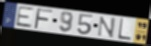5: (76, 14, 94, 36)
9: (58, 11, 74, 34)
E: (14, 5, 34, 29)
F: (33, 7, 54, 30)
L: (117, 18, 133, 42)
N: (96, 16, 117, 39)
